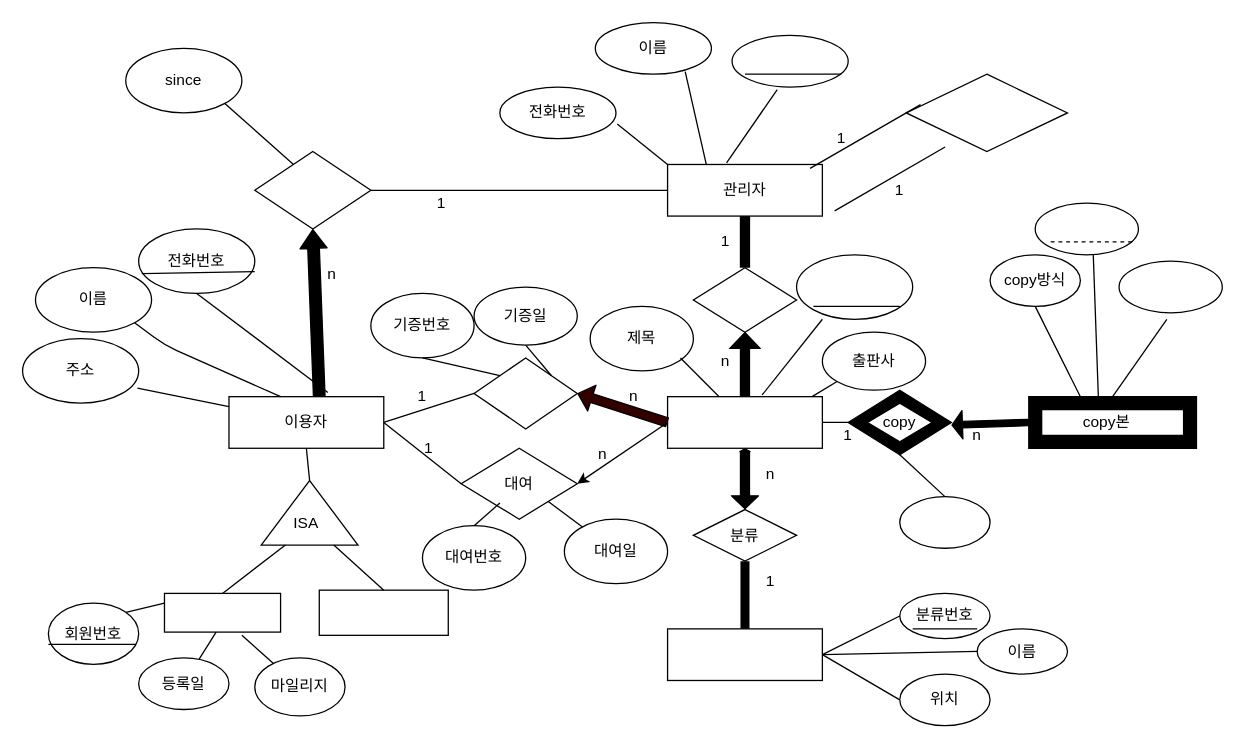
The diagram is 1245 pixels wide and 748 high, and some of its shapes have lost their labels. The shapes that lost their labels are listed below. From the top down, each one's centre as x and y in pixels, then its label:
the point at 789,60: 관리자번호
the point at 986,112: 인수인계
the point at 312,189: 관리
the point at 1086,228: COPYID
the point at 744,299: 정리
the point at 854,286: 도서번호
the point at 1170,286: 보관위치
the point at 525,393: 기증
the point at 744,421: 도서
the point at 944,521: copy날짜
the point at 222,612: 회원
the point at 383,612: 비회원
the point at 744,654: 카테고리
